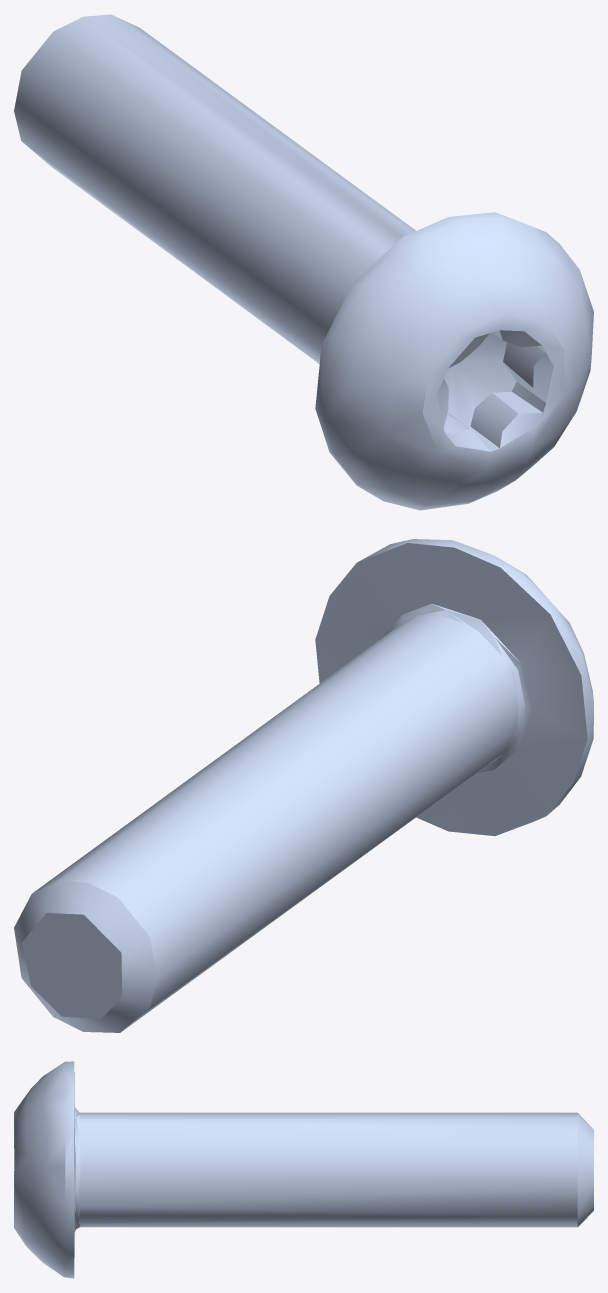
File: _8-32_x_3_4_Star_Drive_Screw__276-4994_.glb
3 renders of one model, top to bottom at view 1: azimuth 30°, elevation 25°; view 2: azimuth 150°, elevation 25°; view 3: azimuth 270°, elevation 25°, orthographic. The views are drawn at different scales.
Parts seen in each view (by area): view 1: #8-32 x 3_4 Star Drive Screw (276-4994); view 2: #8-32 x 3_4 Star Drive Screw (276-4994); view 3: #8-32 x 3_4 Star Drive Screw (276-4994).
Boxes of the visible parts, x1,y1,x2,y2 form: #8-32 x 3_4 Star Drive Screw (276-4994): (14, 14, 593, 510); #8-32 x 3_4 Star Drive Screw (276-4994): (14, 539, 593, 1032); #8-32 x 3_4 Star Drive Screw (276-4994): (14, 1061, 593, 1278).
Size of the model in its own units: 0.3123 by 0.3131 by 0.8373.
